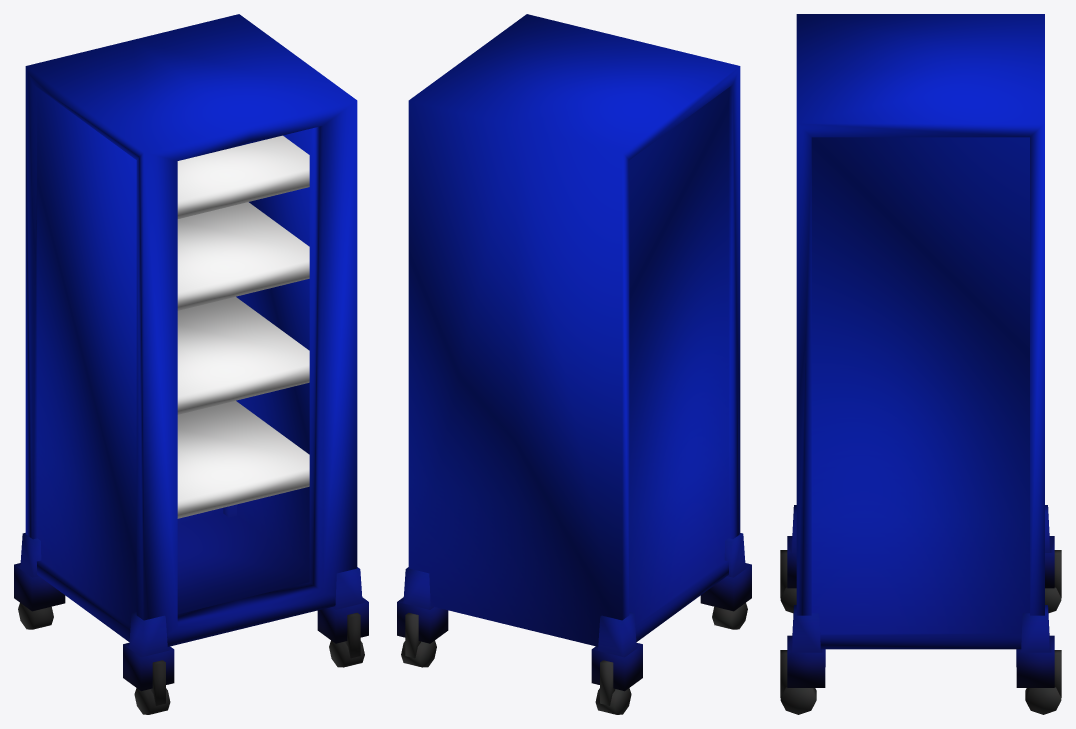
File: EstanteRemedios.fbx
3 views of the same model, side by side, from view 1: azimuth 30°, elevation 25°; view 2: azimuth 150°, elevation 25°; view 3: azimuth 270°, elevation 25° (orthographic). The views are drawn at different scales.
Visible parts, largest first — view 1: EstanteRemedios; view 2: EstanteRemedios; view 3: EstanteRemedios.
Boxes of the visible parts, x1,y1,x2,y2 form: EstanteRemedios: (14, 14, 368, 714); EstanteRemedios: (397, 14, 751, 714); EstanteRemedios: (780, 14, 1061, 714).
Bounding box in the file's own units: 54.92 × 130 × 55.84.
1 material, 1 textured.
